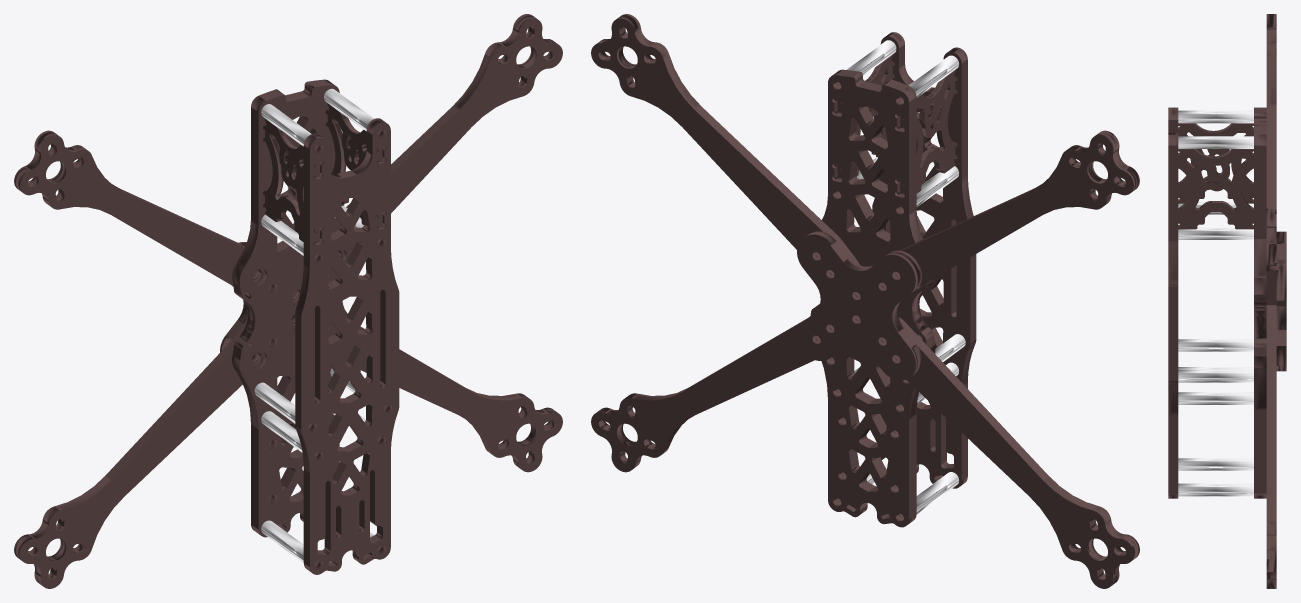
Rendered from Body1_009.glb.
The picture shows the model from 3 angles, left to right: view 1: azimuth 30°, elevation 25°; view 2: azimuth 150°, elevation 25°; view 3: azimuth 270°, elevation 25°; orthographic projection. The views are drawn at different scales.
Visible parts, largest first — view 1: Body1.009; view 2: Body1.009; view 3: Body1.009.
Part boxes in pixels (left/top/right/bottom): Body1.009: left=14, top=14, right=562, bottom=588; Body1.009: left=591, top=14, right=1139, bottom=588; Body1.009: left=1168, top=14, right=1286, bottom=588.
Bounding box in the file's own units: 0.2657 × 0.212 × 0.0601.
